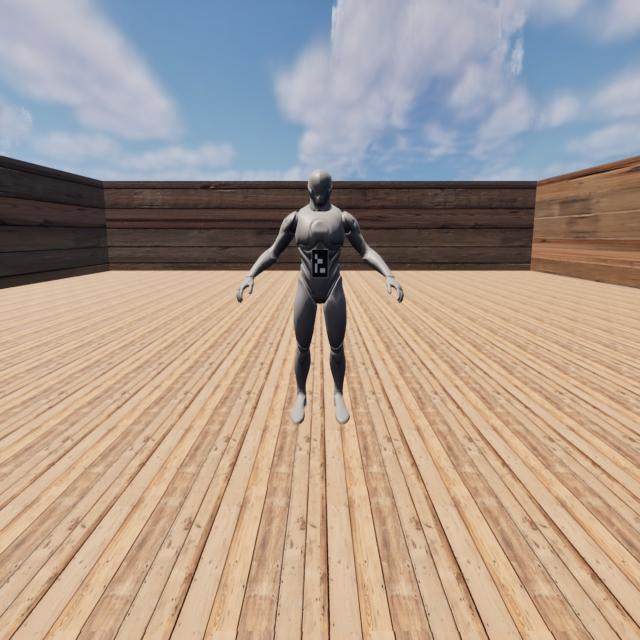aruco: (312, 250, 328, 278)
hip: (298, 276, 343, 288)
